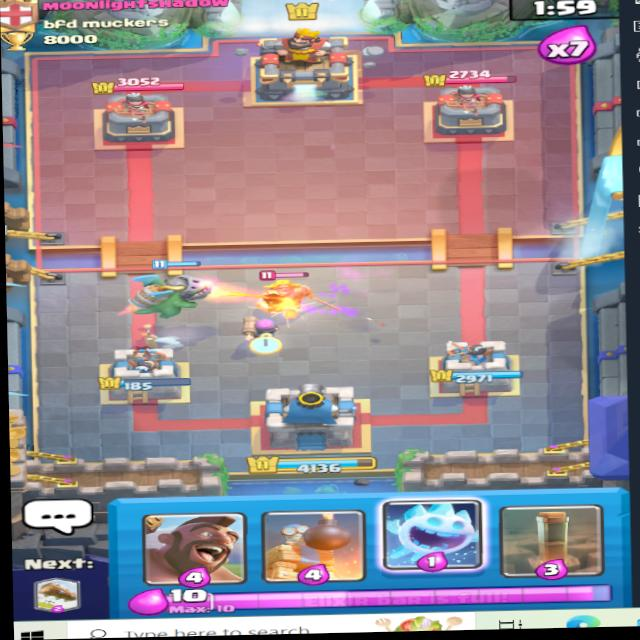Goldenknight: (228, 264, 329, 323)
